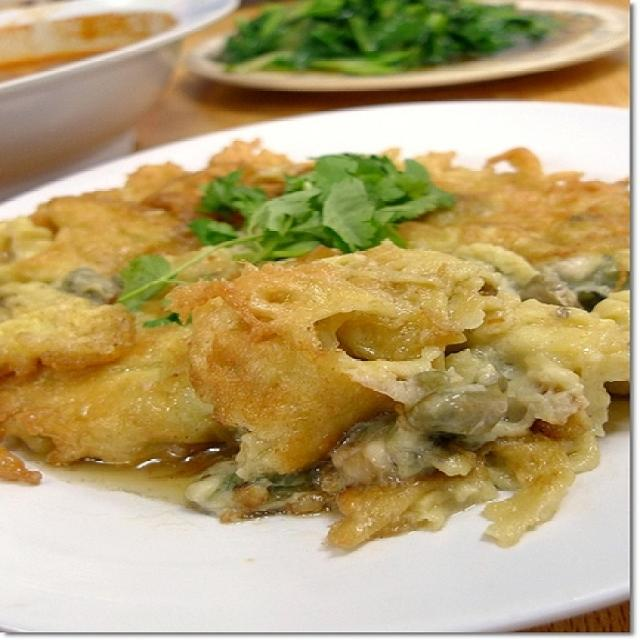熟制海鲜: (2, 69, 625, 613)
